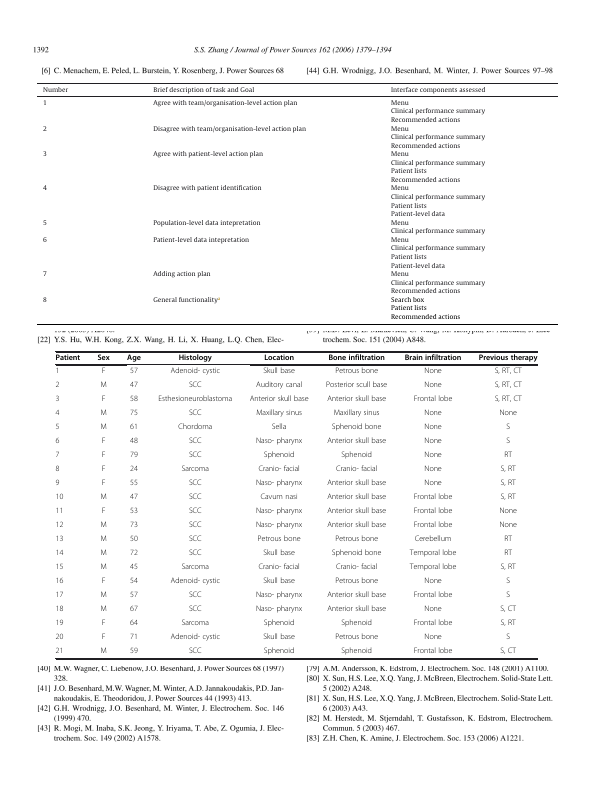borderless: (54, 350, 537, 658), (36, 82, 558, 324)
cell: (389, 151, 485, 185), (389, 185, 485, 219), (389, 237, 485, 271), (389, 125, 485, 151), (389, 100, 485, 125), (389, 271, 485, 296), (389, 297, 461, 322), (389, 219, 485, 236), (152, 125, 306, 134), (152, 100, 298, 108), (152, 185, 262, 194), (152, 219, 261, 228), (152, 86, 255, 95), (152, 151, 263, 159), (389, 86, 486, 95), (152, 237, 249, 245), (157, 395, 233, 405), (325, 381, 388, 391), (152, 296, 221, 305), (326, 395, 387, 405), (326, 437, 387, 447), (326, 479, 387, 489), (326, 493, 387, 503), (326, 507, 387, 517), (326, 521, 387, 531), (326, 591, 387, 601), (326, 605, 387, 615), (249, 395, 309, 405), (478, 354, 538, 363), (327, 354, 386, 363), (404, 354, 462, 363), (169, 367, 221, 377), (169, 577, 221, 587), (169, 633, 221, 643), (331, 423, 382, 433), (331, 549, 382, 559), (255, 381, 303, 391), (255, 409, 303, 419), (255, 437, 303, 447), (255, 479, 303, 489), (255, 507, 303, 517), (255, 521, 303, 531), (409, 549, 457, 559), (409, 563, 457, 573), (255, 591, 303, 601), (255, 605, 303, 615), (152, 271, 211, 279), (333, 409, 380, 419), (334, 367, 379, 377), (334, 535, 379, 545), (334, 577, 379, 587), (334, 633, 379, 643), (257, 465, 301, 475), (257, 535, 301, 545), (257, 563, 301, 573), (335, 465, 378, 475), (335, 563, 378, 573), (413, 395, 453, 405), (259, 493, 299, 503), (413, 493, 453, 503), (413, 507, 453, 517), (413, 521, 453, 531), (413, 591, 453, 601), (413, 619, 453, 629), (413, 647, 453, 657), (414, 535, 452, 545), (177, 423, 213, 433), (262, 367, 296, 377), (262, 549, 296, 559), (262, 577, 296, 587), (262, 633, 296, 643), (340, 451, 373, 461), (340, 619, 373, 629), (340, 647, 373, 657), (263, 451, 295, 461), (263, 619, 295, 629), (263, 647, 295, 657), (178, 354, 213, 363), (180, 465, 210, 475), (180, 563, 210, 573), (180, 619, 210, 629), (494, 367, 523, 377), (494, 381, 523, 391), (494, 395, 523, 405), (263, 354, 295, 363), (41, 86, 69, 95), (55, 354, 81, 363), (423, 367, 443, 377), (423, 381, 443, 391), (423, 409, 443, 419), (498, 409, 518, 419), (423, 423, 443, 433), (423, 437, 443, 447), (423, 451, 443, 461), (423, 465, 443, 475), (423, 479, 443, 489), (498, 507, 518, 517), (498, 521, 518, 531), (423, 577, 443, 587), (423, 605, 443, 615), (423, 633, 443, 643), (499, 605, 517, 615), (499, 647, 517, 657), (500, 465, 517, 475), (500, 479, 517, 489), (500, 493, 517, 503), (500, 563, 517, 573), (500, 619, 517, 629), (271, 423, 287, 433), (126, 354, 142, 363), (188, 381, 202, 391), (188, 409, 202, 419), (188, 437, 202, 447), (188, 451, 202, 461), (188, 479, 202, 489), (188, 493, 202, 503), (188, 507, 202, 517), (188, 521, 202, 531), (188, 535, 202, 545), (188, 549, 202, 559), (188, 591, 202, 601), (188, 605, 202, 615), (188, 647, 202, 657), (96, 354, 111, 363), (129, 367, 139, 377), (129, 381, 139, 391), (129, 395, 139, 405), (129, 409, 139, 419), (129, 423, 139, 433), (129, 437, 139, 447), (129, 451, 139, 461), (503, 451, 513, 461), (129, 465, 139, 475), (129, 479, 139, 489), (129, 493, 139, 503), (129, 507, 139, 517), (129, 521, 139, 531), (129, 535, 139, 545), (503, 535, 513, 545), (129, 549, 139, 559), (503, 549, 513, 559), (129, 563, 139, 573), (129, 577, 139, 587), (129, 591, 139, 601), (129, 605, 139, 615), (129, 619, 139, 629), (129, 633, 139, 643), (129, 647, 139, 657), (99, 381, 108, 391), (99, 409, 108, 419), (99, 423, 108, 433), (55, 493, 64, 503), (99, 493, 108, 503), (55, 507, 64, 517), (55, 521, 64, 531), (99, 521, 108, 531), (55, 535, 64, 545), (99, 535, 108, 545), (55, 549, 64, 559), (99, 549, 108, 559), (55, 563, 64, 573), (99, 563, 108, 573), (55, 577, 64, 587), (55, 591, 64, 601), (99, 591, 108, 601), (55, 605, 64, 615), (99, 605, 108, 615), (55, 619, 64, 629), (55, 633, 64, 643), (55, 647, 64, 657), (99, 647, 108, 657), (505, 423, 511, 433), (505, 437, 511, 447), (505, 577, 511, 587), (505, 591, 511, 601), (505, 633, 511, 643), (41, 125, 47, 134), (41, 185, 47, 194), (41, 219, 47, 228), (55, 367, 60, 377), (101, 367, 106, 377), (55, 381, 60, 391), (55, 395, 60, 405), (101, 395, 106, 405), (55, 409, 60, 419), (55, 423, 60, 433), (55, 437, 60, 447), (101, 437, 106, 447), (55, 451, 60, 461), (101, 451, 106, 461), (55, 465, 60, 475), (101, 465, 106, 475), (55, 479, 60, 489), (101, 479, 106, 489), (101, 507, 106, 517), (101, 577, 106, 587), (101, 619, 106, 629), (101, 633, 106, 643), (41, 100, 47, 108), (41, 151, 47, 159), (41, 237, 47, 245), (41, 271, 47, 279), (41, 297, 47, 305)
